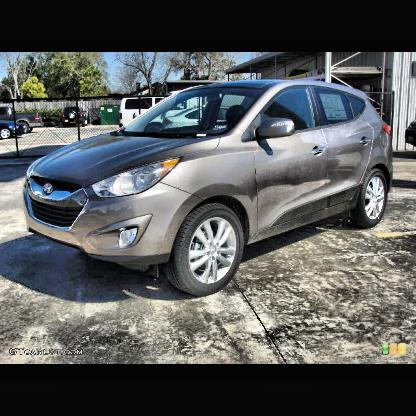Hyundai Tucson SUV 2012: (25, 78, 394, 296)
